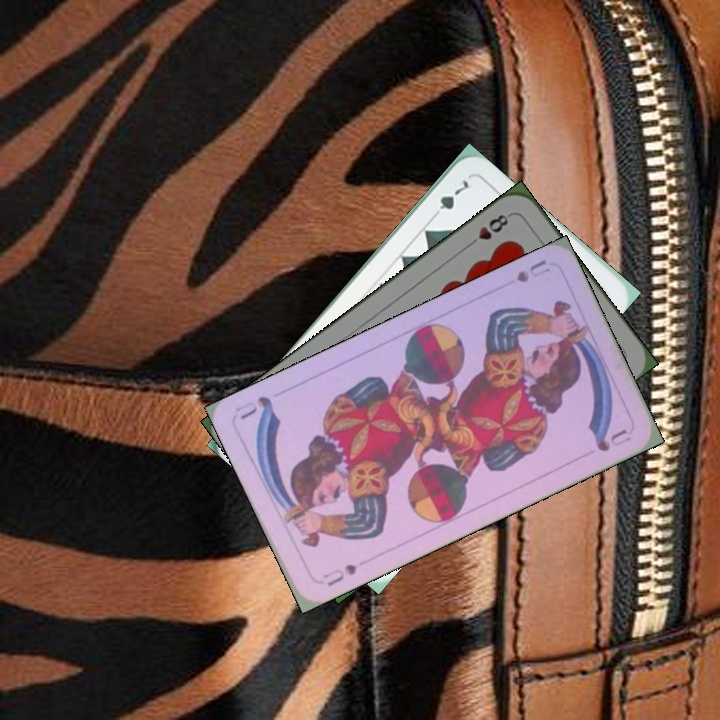G7: (428, 175, 471, 222)
H8: (463, 209, 514, 250)
SU: (319, 555, 371, 589), (512, 255, 553, 286)
